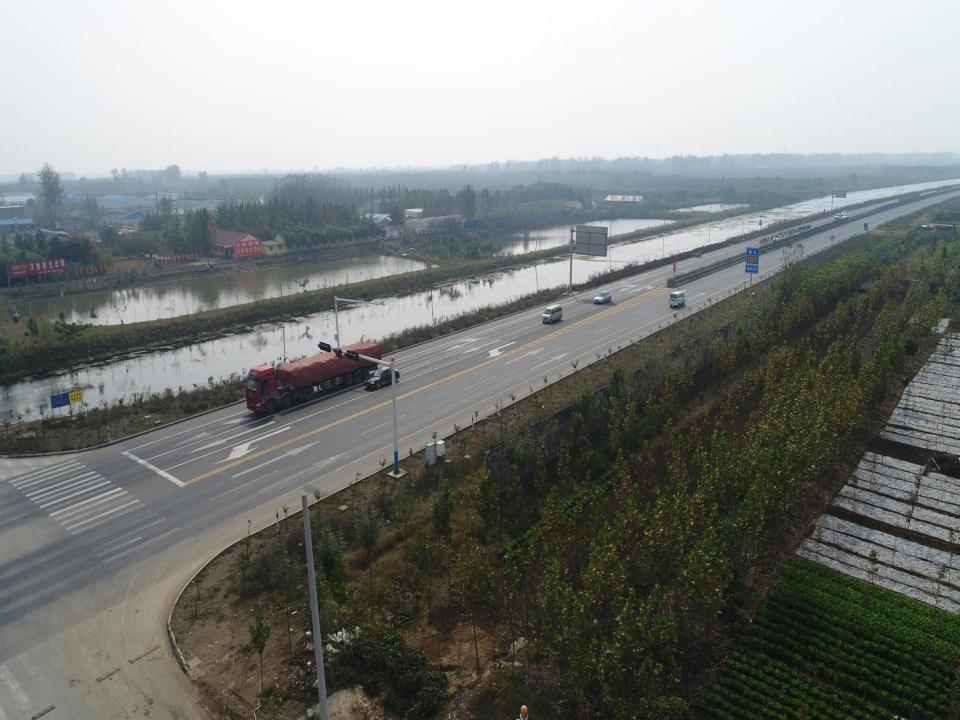car: (364, 367, 400, 388), (593, 290, 612, 304), (842, 214, 849, 220), (840, 211, 847, 217), (834, 213, 840, 219)
truck: (244, 342, 381, 413)
van: (541, 304, 563, 324), (668, 290, 686, 308)
